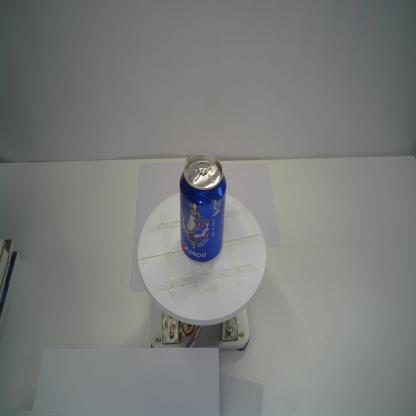Drink: (178, 153, 228, 263)
